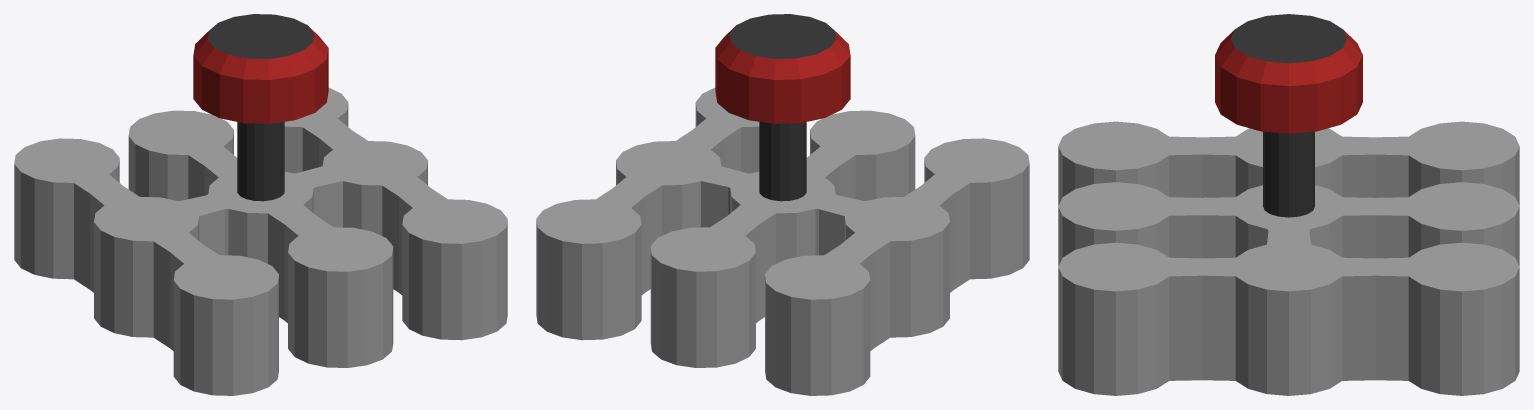
3 renders of one model, left to right at view 1: azimuth 30°, elevation 25°; view 2: azimuth 150°, elevation 25°; view 3: azimuth 270°, elevation 25°, orthographic. The views are drawn at different scales.
Parts seen in each view (by area): view 1: Base, Hand; view 2: Base, Hand; view 3: Base, Hand.
Boxes of the visible parts, x1,y1,x2,y2 form: Base: [14, 88, 507, 395]; Hand: [193, 14, 328, 201]; Base: [536, 88, 1029, 395]; Hand: [715, 14, 850, 201]; Base: [1058, 121, 1519, 395]; Hand: [1215, 14, 1362, 217].
Bounding box in the file's own units: 697 × 521 × 800.
